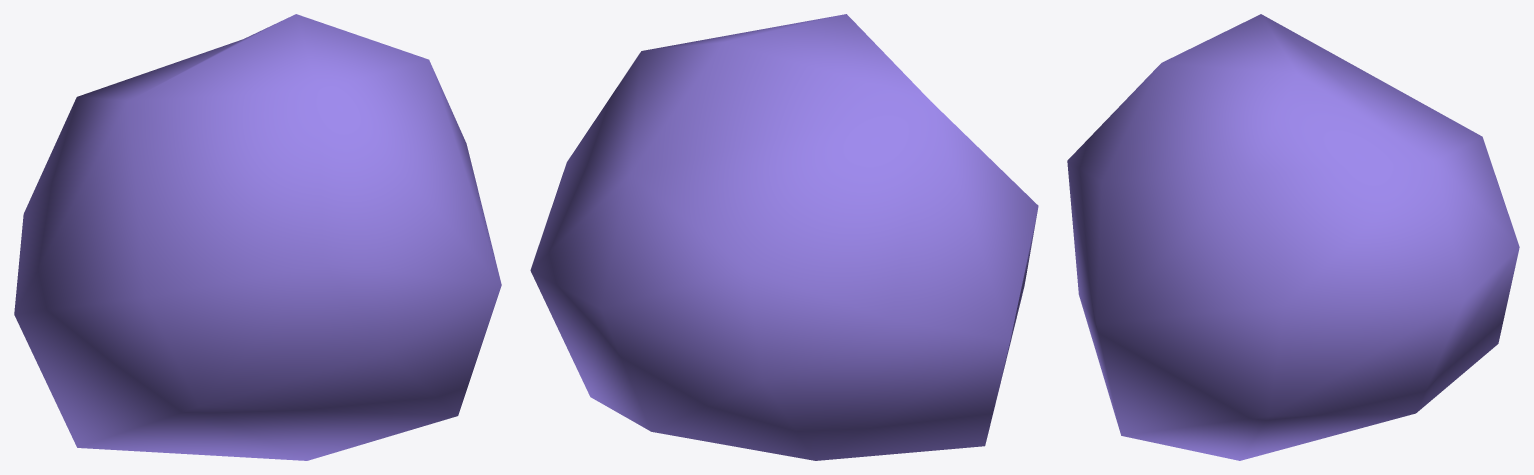
File: smallRock.glb
3 renders of one model, left to right at view 1: azimuth 30°, elevation 25°; view 2: azimuth 150°, elevation 25°; view 3: azimuth 270°, elevation 25°, orthographic. The views are drawn at different scales.
Parts seen in each view (by area): view 1: Icosphere; view 2: Icosphere; view 3: Icosphere.
Part boxes in pixels (x1,y1,x2,y2): Icosphere: (14,14,501,460); Icosphere: (530,14,1038,460); Icosphere: (1067,14,1519,460).
Size of the model in its own units: 0.1453 by 0.1302 by 0.135.
